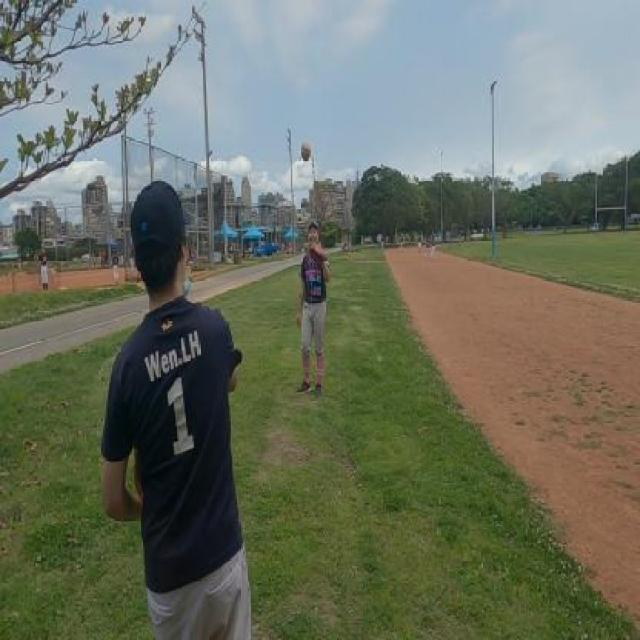sports ball: (300, 142, 314, 162)
